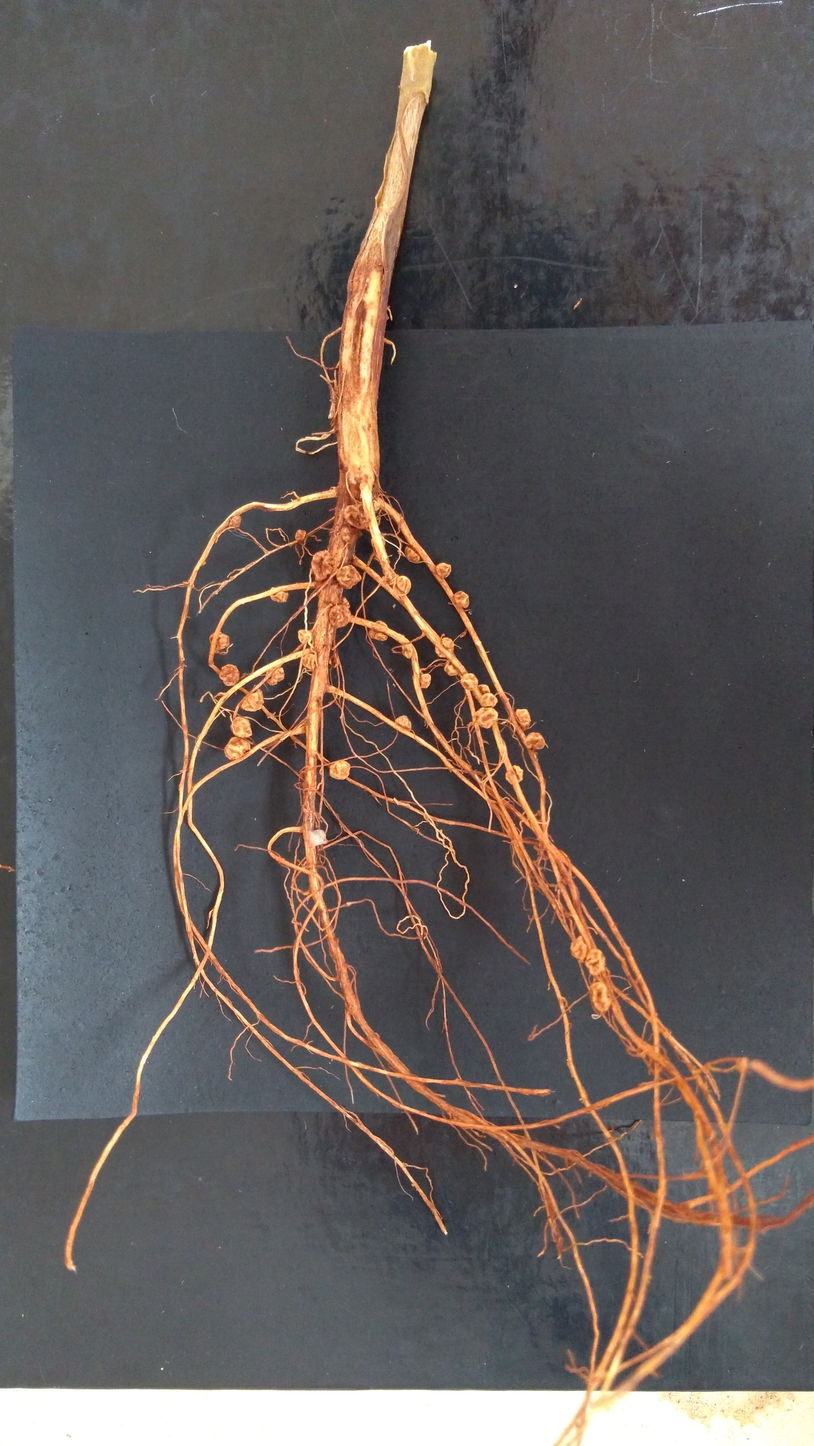nodule: (310, 549, 335, 582), (589, 981, 611, 1018), (343, 502, 373, 529), (335, 564, 362, 590), (223, 737, 251, 760), (584, 949, 606, 977), (240, 688, 265, 712), (328, 604, 351, 628), (230, 715, 253, 739), (570, 936, 589, 963), (475, 707, 498, 728), (434, 637, 455, 659), (219, 664, 240, 686), (512, 708, 531, 732), (368, 620, 388, 642), (329, 760, 351, 780), (265, 664, 285, 685), (208, 631, 230, 650), (524, 731, 546, 750), (504, 765, 524, 785), (412, 670, 432, 689), (460, 672, 479, 691), (404, 544, 422, 563), (444, 657, 461, 677), (453, 590, 470, 608), (395, 575, 411, 594), (435, 562, 452, 579), (395, 715, 412, 732), (270, 587, 288, 603), (479, 693, 498, 708), (302, 653, 317, 671), (370, 534, 386, 548), (297, 629, 311, 644), (341, 525, 352, 544), (228, 515, 242, 529), (401, 643, 413, 659), (475, 684, 491, 695), (294, 529, 307, 542), (328, 400, 336, 420), (328, 654, 339, 668), (340, 595, 351, 608), (380, 552, 391, 564), (372, 499, 380, 511), (562, 877, 568, 885)
